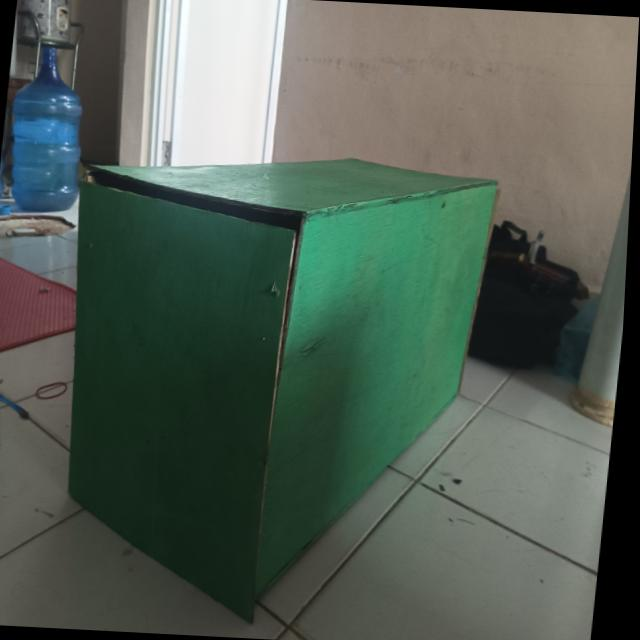green_box: (34, 138, 554, 616)
